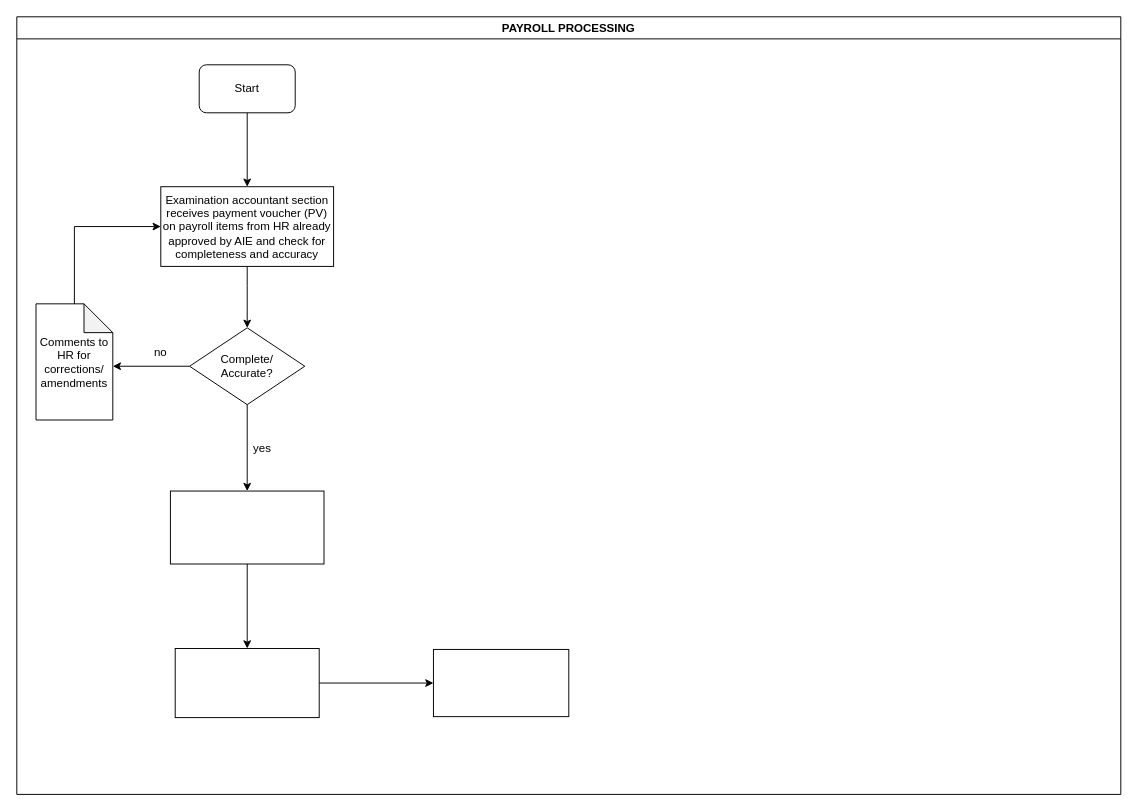
This 1138x811 diagram has some shape labels left out. Here are the shapes that lost their labels. From the top down, the centre of each, then its label:
At point 246,527: "Examination accountant numbers the PV and forwards to salary advnace accountant".
At point 246,683: "Accountant salary advance posts in Ledgers and forwards to vote book".
At point 500,682: "Vote book accountant in expenditure and forwards to salary advance accountant".
